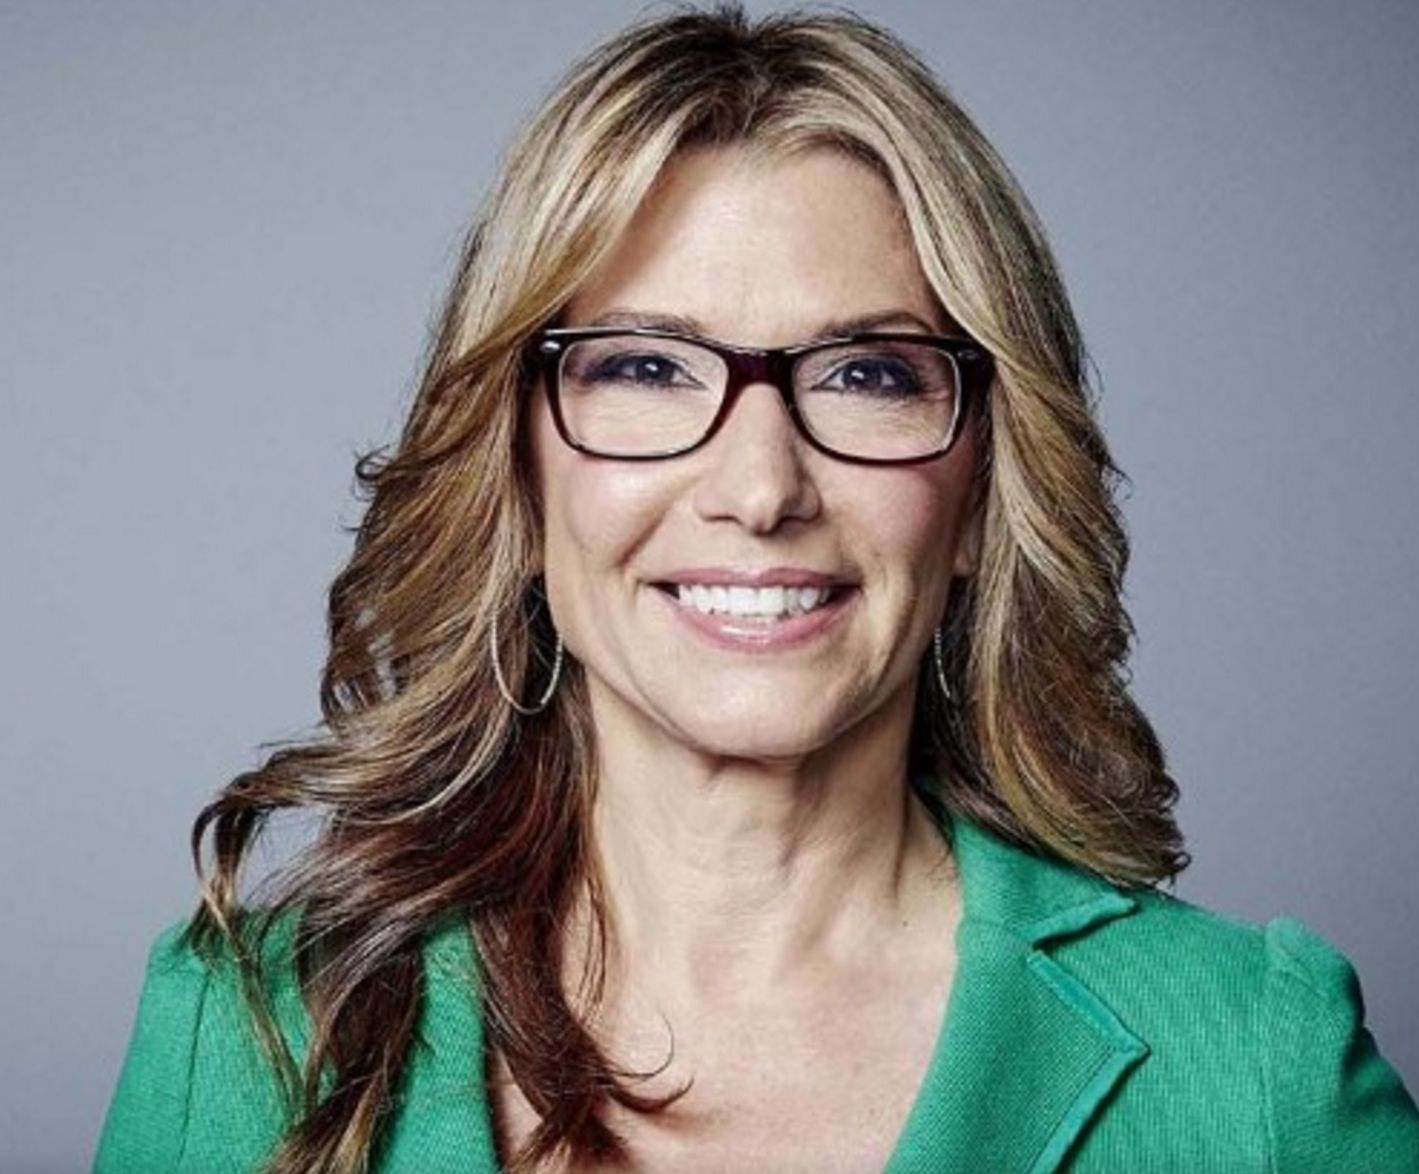llen: (790, 341, 958, 459)
rlen: (557, 334, 730, 455)
